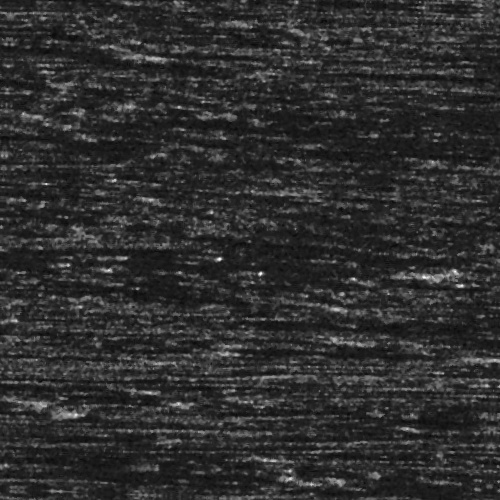object: (345, 258, 500, 277), (78, 52, 151, 63), (458, 479, 500, 490), (490, 315, 500, 324)
shadow: (88, 258, 423, 277), (277, 315, 500, 324), (346, 479, 500, 490), (12, 52, 114, 63)
